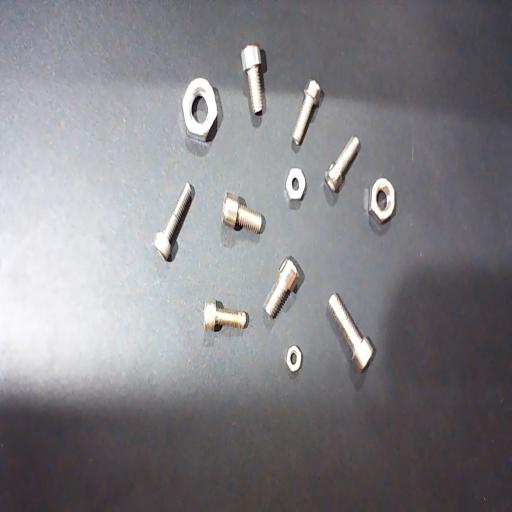nut: (182, 78, 218, 144), (369, 178, 396, 225), (285, 168, 306, 200), (286, 345, 302, 372)
screw: (328, 292, 373, 372), (154, 183, 194, 262), (264, 258, 299, 320), (324, 136, 360, 193), (292, 80, 320, 146), (221, 192, 262, 234), (240, 44, 262, 115), (204, 300, 246, 332)
